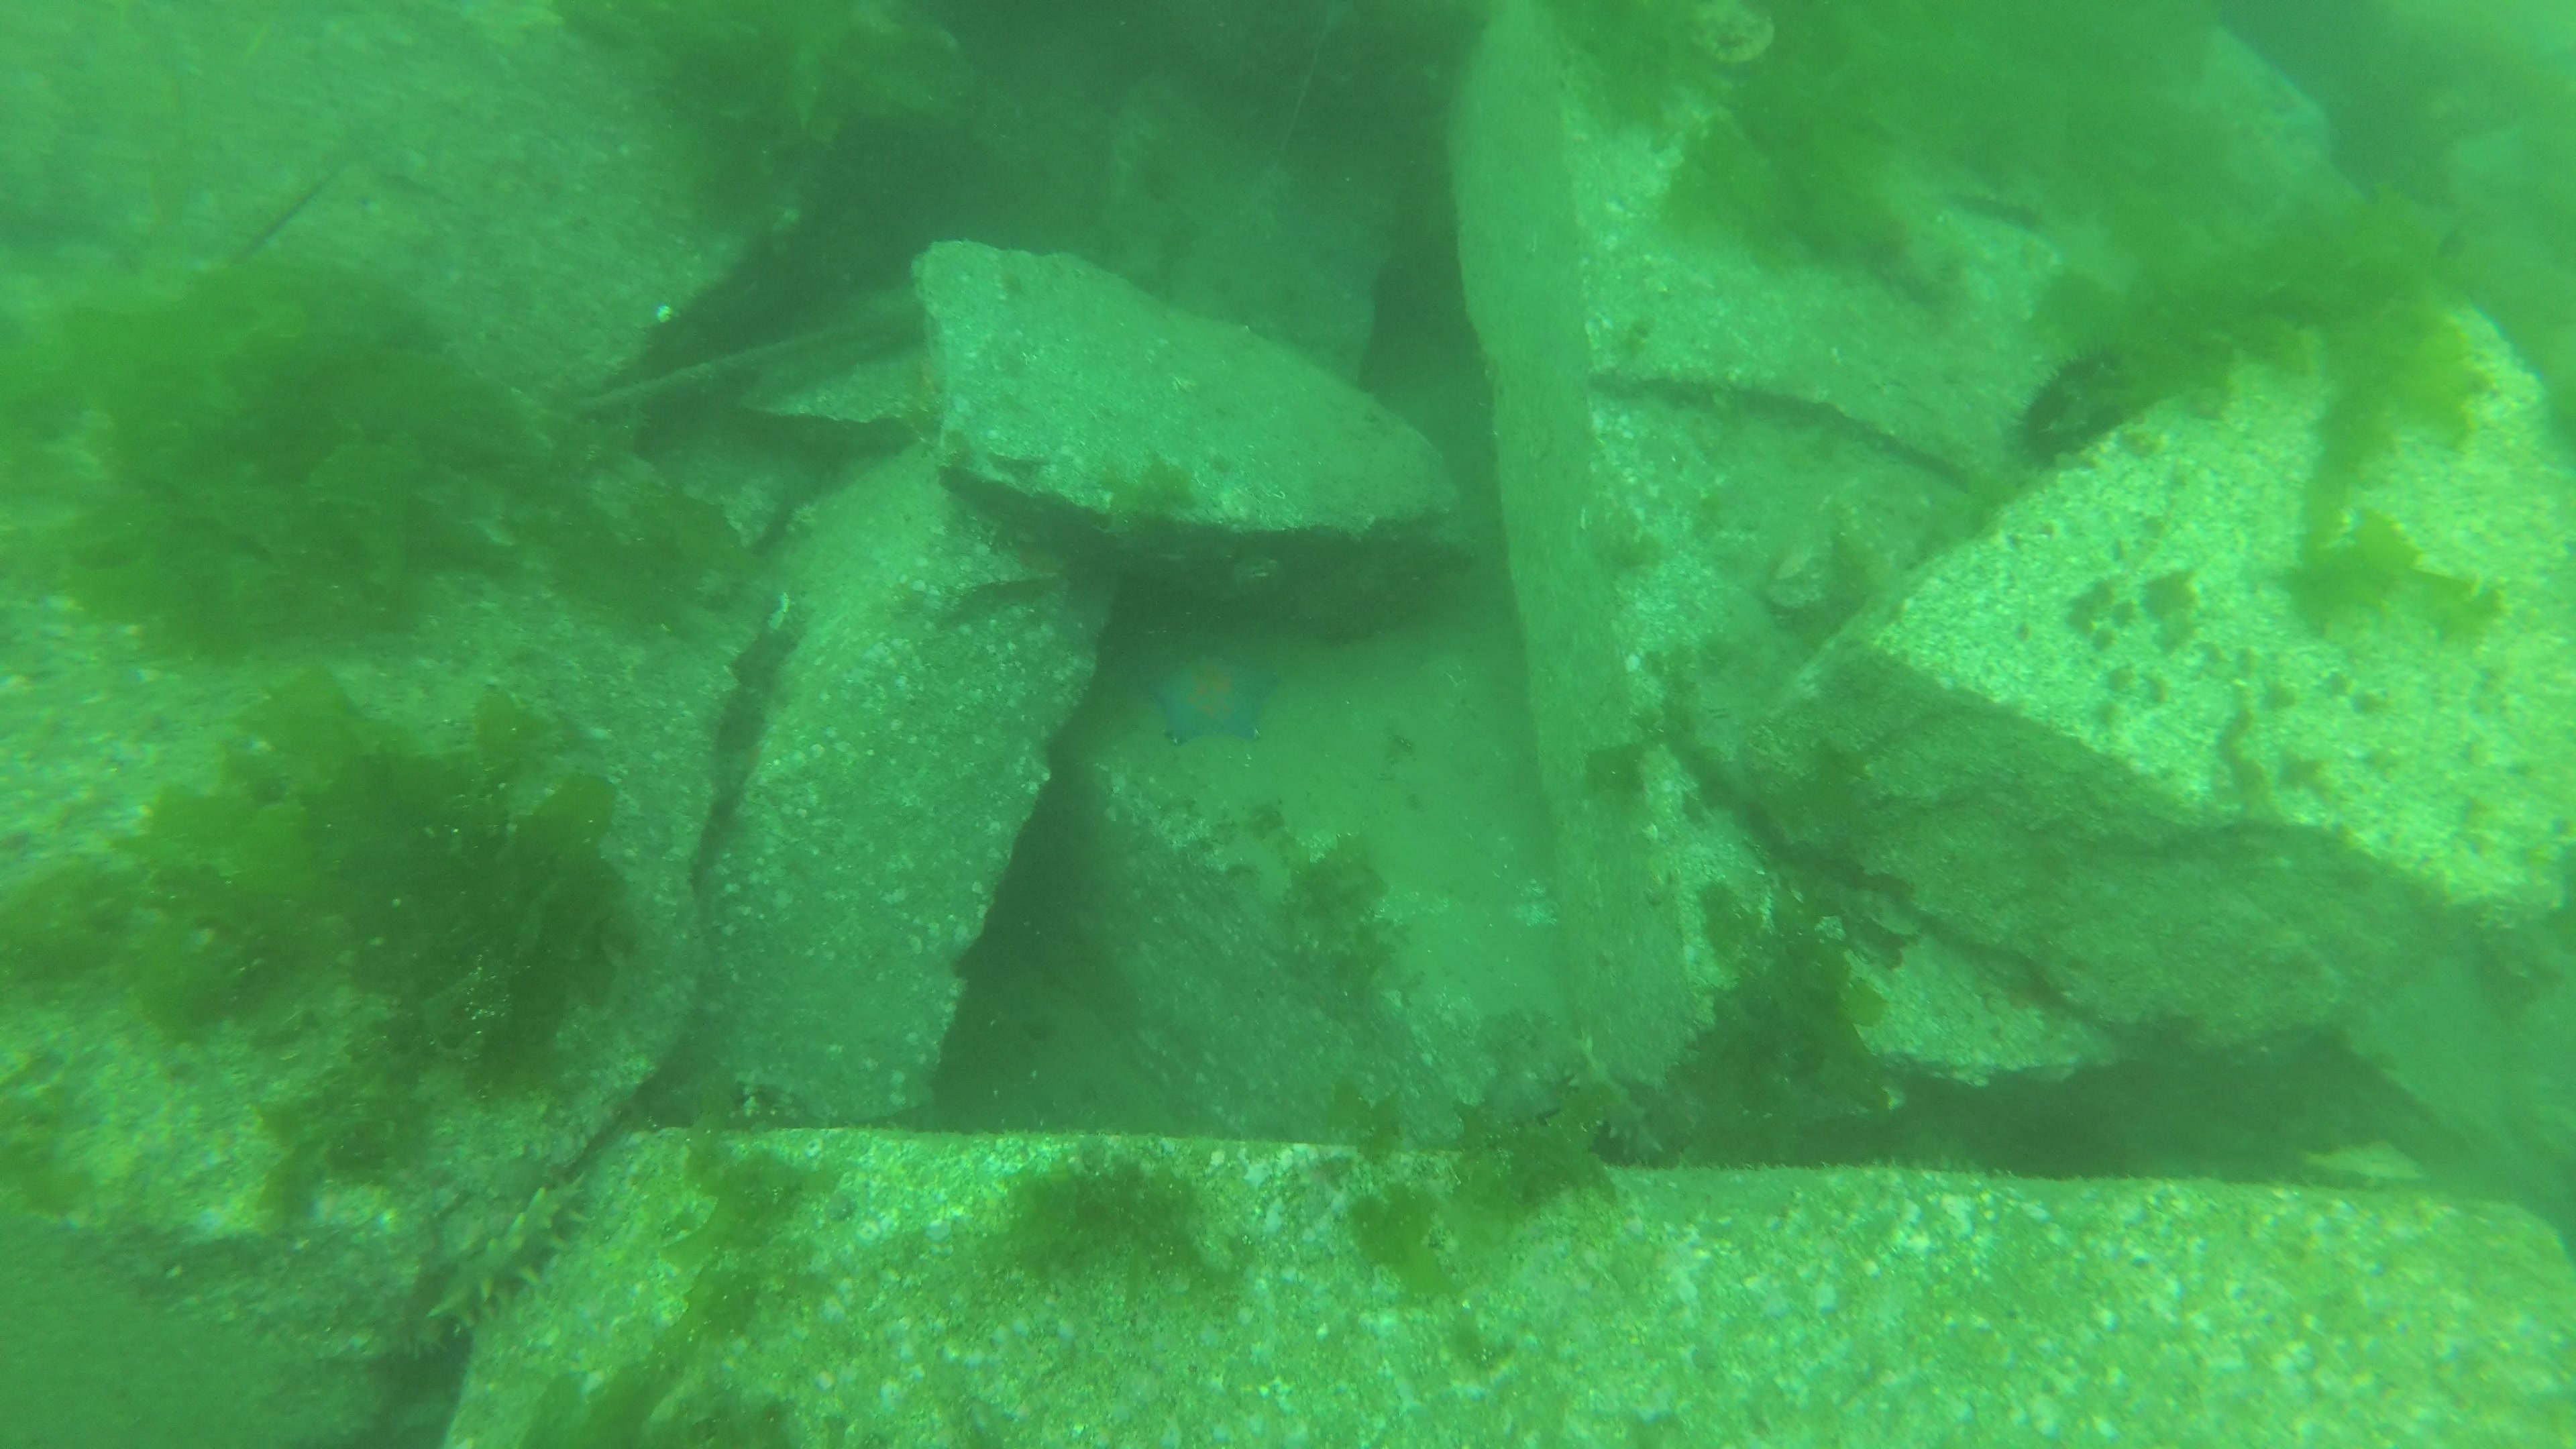echinus: (2013, 347, 2132, 462)
holothurian: (425, 1164, 598, 1332), (1560, 1031, 1670, 1169)
starfish: (1154, 649, 1283, 743)
